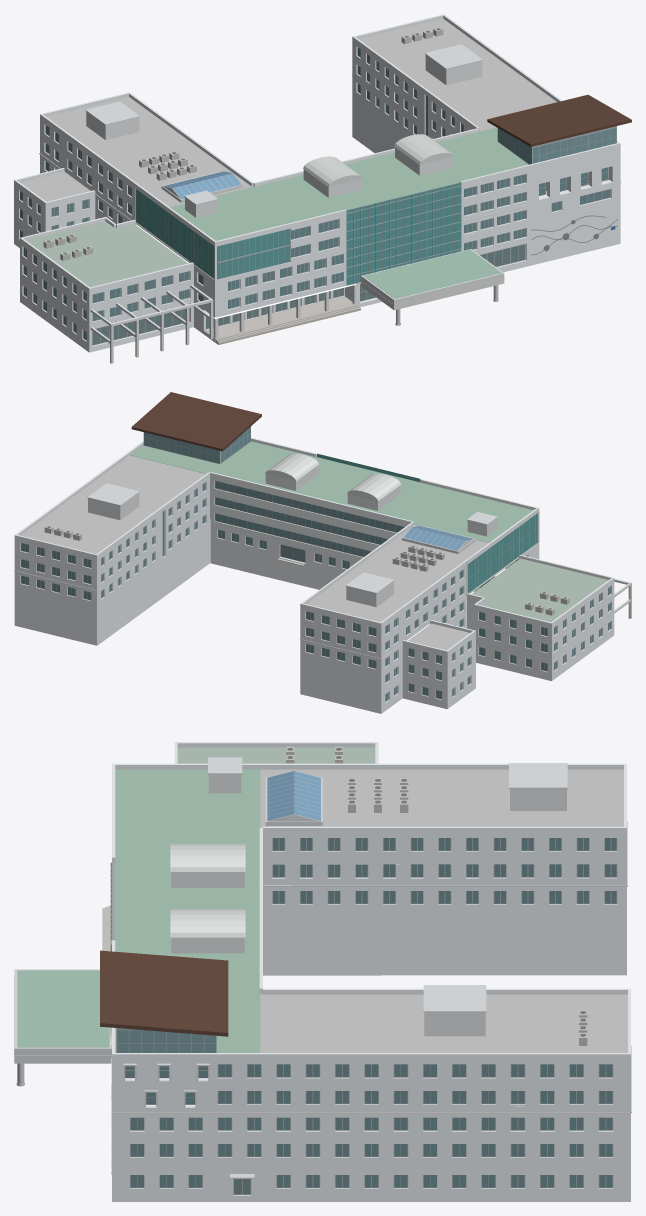
The picture shows the model from 3 angles, top to bottom: view 1: azimuth 30°, elevation 25°; view 2: azimuth 150°, elevation 25°; view 3: azimuth 270°, elevation 25°; orthographic projection. The views are drawn at different scales.
Visible parts, largest first — view 1: hoyeon__panel-wall, hoyeon__roof, hoyeon__cw-glass, hoyeon__roof-green, hoyeon__glass, hoyeon__roof-annex, hoyeon__cw-frame, hoyeon__brown-roof, hoyeon__frame, hoyeon__box-wall, hoyeon__canopy-top, hoyeon__frame-white (+8 smaller); view 2: hoyeon__panel-wall, hoyeon__roof, hoyeon__glass, hoyeon__roof-green, hoyeon__roof-annex, hoyeon__brown-roof, hoyeon__frame, hoyeon__box-wall, hoyeon__cw-glass, hoyeon__trim, hoyeon__barrel, hoyeon__ac (+3 smaller); view 3: hoyeon__panel-wall, hoyeon__roof, hoyeon__roof-green, hoyeon__glass, hoyeon__brown-roof, hoyeon__frame, hoyeon__trim, hoyeon__canopy-top, hoyeon__box-wall, hoyeon__barrel, hoyeon__roof-annex, hoyeon__sky-glass (+3 smaller).
Part boxes in pixels (bbox=[...]): hoyeon__panel-wall: bbox=[14, 14, 620, 352]; hoyeon__roof: bbox=[20, 18, 556, 206]; hoyeon__cw-glass: bbox=[136, 183, 460, 285]; hoyeon__roof-green: bbox=[170, 127, 532, 240]; hoyeon__glass: bbox=[20, 47, 610, 340]; hoyeon__roof-annex: bbox=[26, 221, 187, 287]; hoyeon__cw-frame: bbox=[136, 126, 616, 285]; hoyeon__brown-roof: bbox=[487, 94, 631, 146]; hoyeon__frame: bbox=[20, 56, 610, 345]; hoyeon__box-wall: bbox=[86, 55, 482, 217]; hoyeon__canopy-top: bbox=[363, 250, 501, 298]; hoyeon__frame-white: bbox=[90, 284, 355, 363]; hoyeon__panel-wall: bbox=[14, 437, 614, 713]; hoyeon__roof: bbox=[20, 455, 488, 650]; hoyeon__glass: bbox=[21, 481, 610, 701]; hoyeon__roof-green: bbox=[130, 441, 533, 542]; hoyeon__roof-annex: bbox=[472, 558, 608, 622]; hoyeon__brown-roof: bbox=[131, 392, 261, 451]; hoyeon__frame: bbox=[21, 481, 610, 701]; hoyeon__box-wall: bbox=[88, 465, 496, 607]; hoyeon__cw-glass: bbox=[317, 453, 537, 593]; hoyeon__trim: bbox=[14, 483, 497, 659]; hoyeon__barrel: bbox=[265, 453, 401, 501]; hoyeon__ac: bbox=[44, 525, 569, 615]; hoyeon__panel-wall: bbox=[112, 742, 630, 1201]; hoyeon__roof: bbox=[260, 769, 627, 1052]; hoyeon__roof-green: bbox=[114, 769, 260, 1052]; hoyeon__glass: bbox=[125, 838, 616, 1187]; hoyeon__brown-roof: bbox=[100, 950, 228, 1036]; hoyeon__frame: bbox=[125, 770, 617, 1194]; hoyeon__trim: bbox=[111, 757, 631, 1178]; hoyeon__canopy-top: bbox=[17, 970, 109, 1047]; hoyeon__box-wall: bbox=[171, 775, 566, 1036]; hoyeon__barrel: bbox=[170, 843, 245, 937]; hoyeon__roof-annex: bbox=[177, 747, 375, 768]; hoyeon__sky-glass: bbox=[267, 771, 320, 821].
Bounding box in the file's own units: 108 × 24.95 × 75.94.
